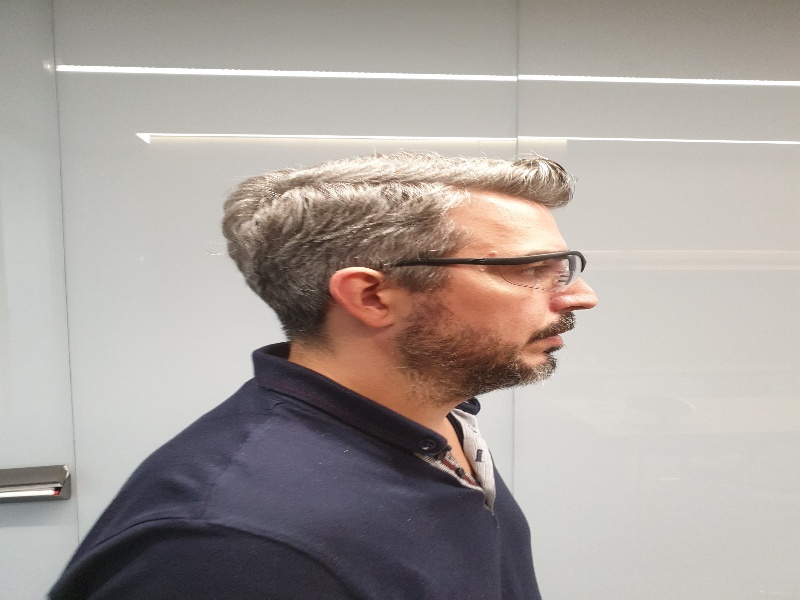Gozluk: (392, 246, 590, 290)
